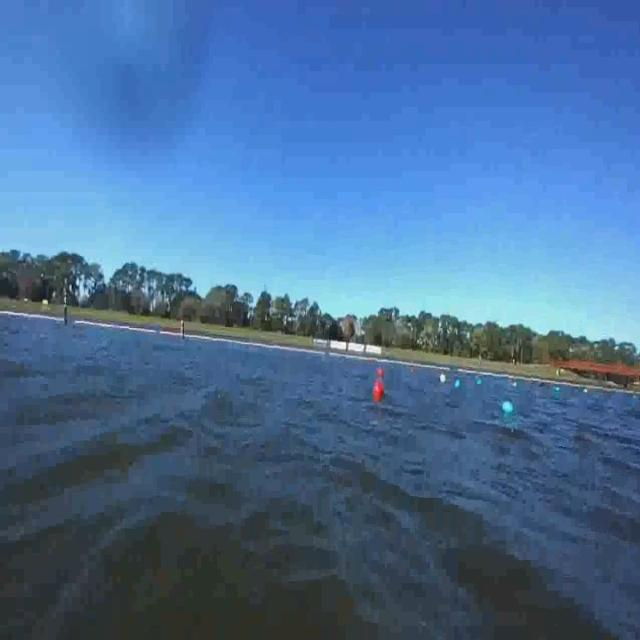green-buoy: (501, 398, 512, 414)
red-buoy: (374, 380, 386, 402), (377, 366, 386, 378)
yellow-buoy: (439, 370, 447, 387), (454, 376, 461, 389)
